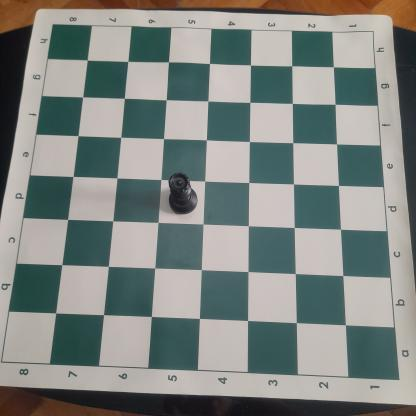black-queen: (167, 172, 199, 216)
